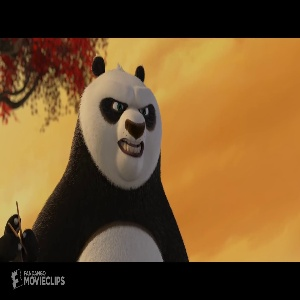po: (5, 54, 192, 261)
